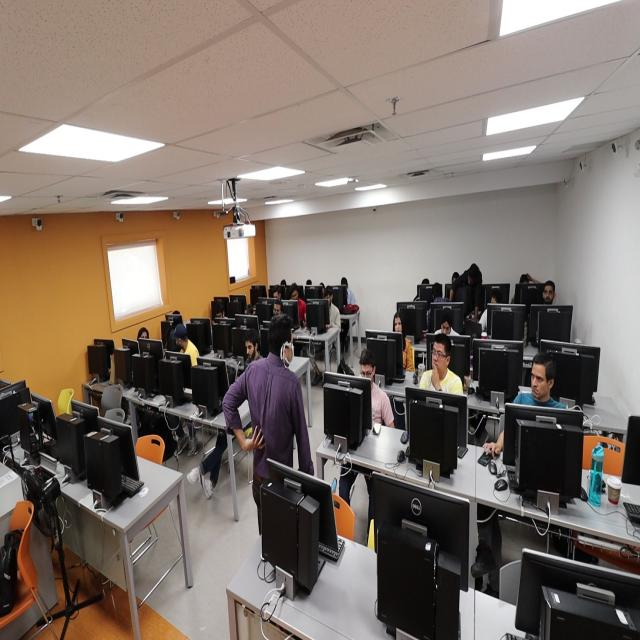Attentive: (531, 362, 547, 400), (431, 342, 447, 374), (543, 284, 554, 306), (394, 316, 402, 334)
Distracted: (360, 363, 374, 385), (441, 319, 451, 336), (174, 334, 184, 349), (273, 304, 281, 318), (291, 290, 299, 302), (324, 294, 332, 306), (273, 291, 281, 302)
Sleepy: (244, 340, 256, 360)
